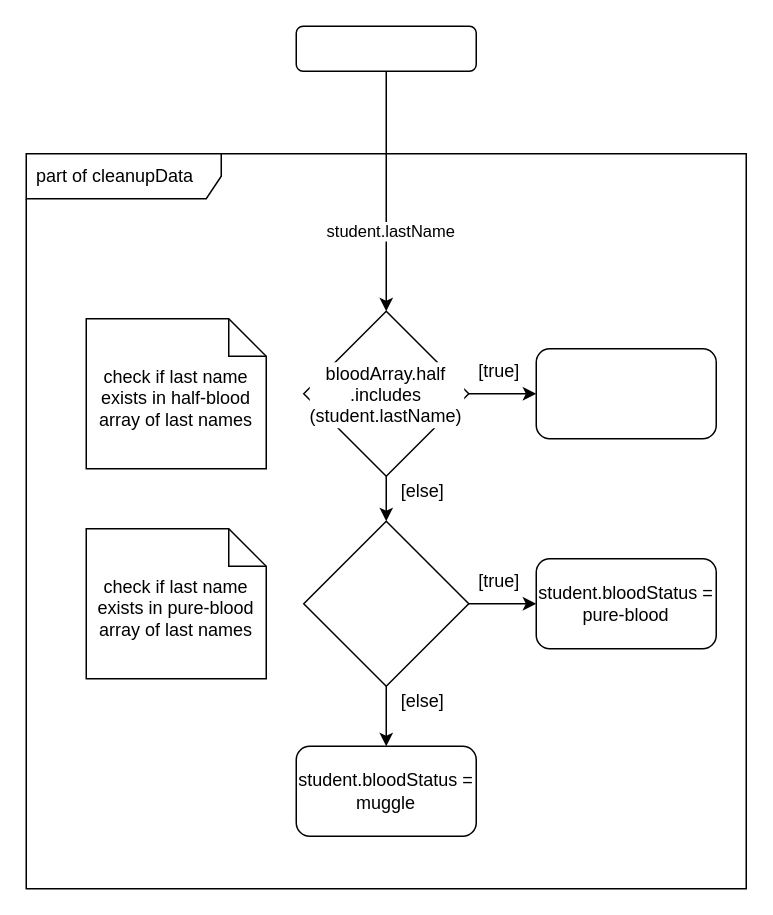
The diagram is 773 pixels wide and 915 high, and some of its shapes have lost their labels. The centre of each missing label's shape, as x and y in pixels:
bloodArray.pure .includes (student.lastName): pixel 385 603
cleanupData: pixel 385 48
student.bloodStatus = half-blood: pixel 625 393
